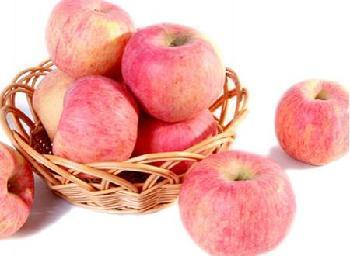apple: (176, 151, 298, 254), (126, 22, 224, 120), (54, 76, 140, 167), (44, 1, 133, 79), (274, 78, 349, 165)
